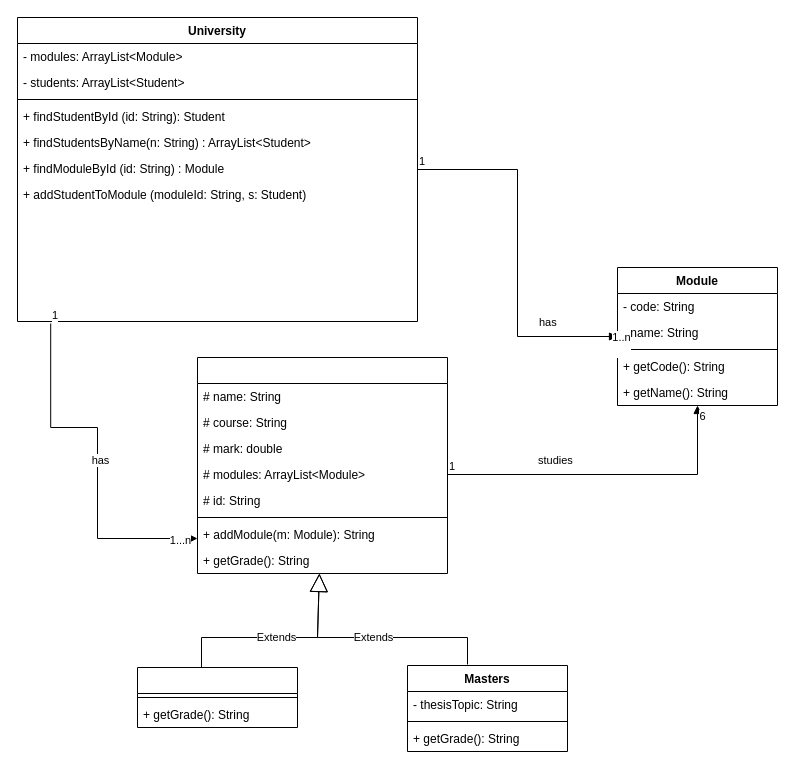
This 795x772 diagram has some shape labels left out. Each missing label, with the box of its shape:
Student: (196, 356, 448, 574)
Undergraduate: (136, 666, 298, 728)
